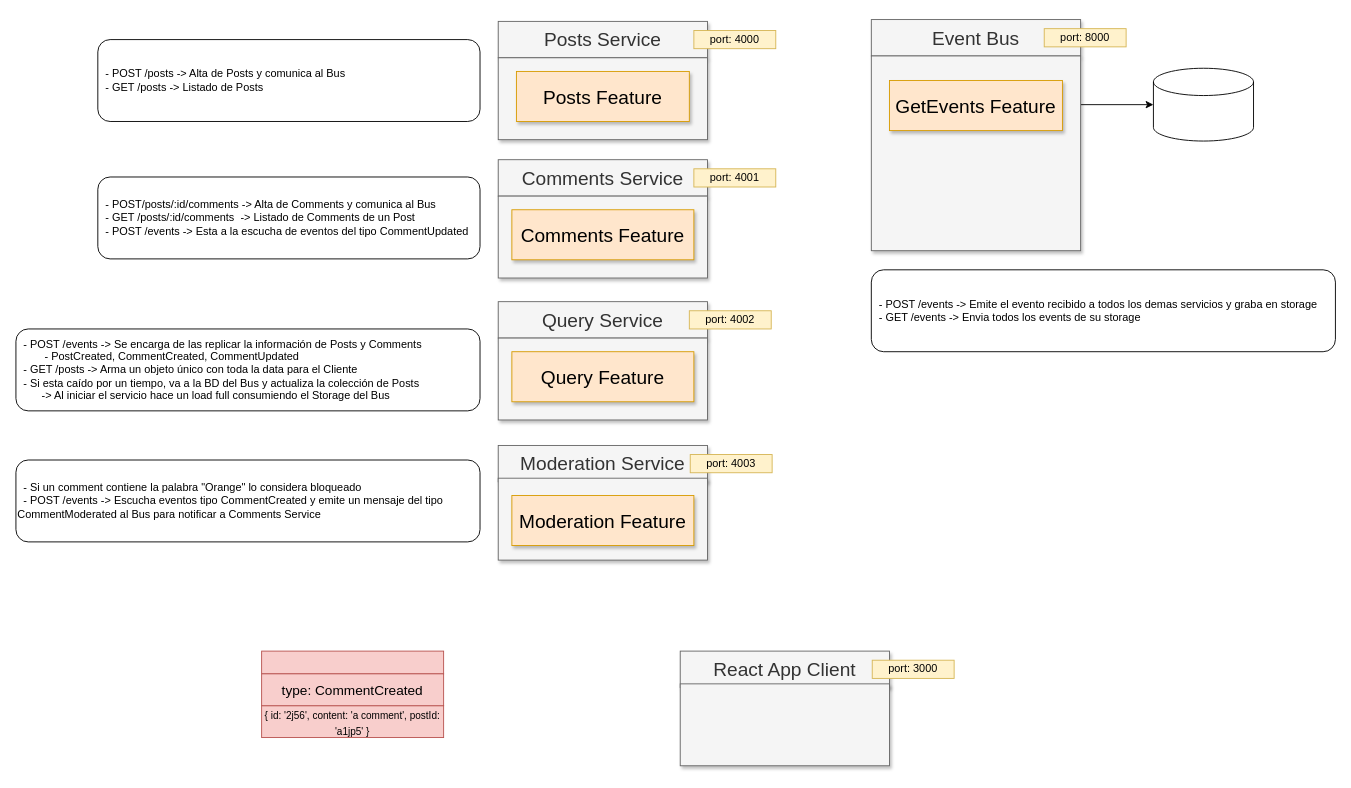
Some shapes in this 1351 by 788 pixel diagram are drawn without their labels. The centre of each missing label's shape, as x and y in pixels:
Event: [352,662]
Event Bus Data Storage: [1203,104]
